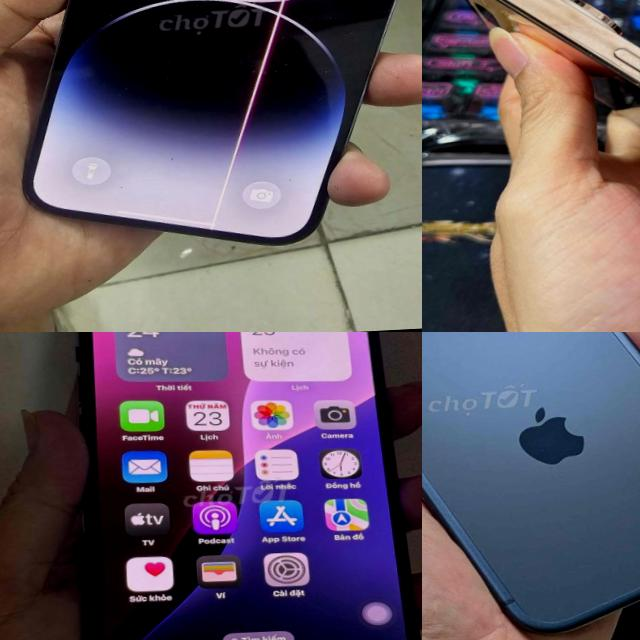gen_12_13: (54, 332, 422, 640)
gen_14: (0, 0, 422, 260), (432, 0, 640, 324)
gen_17: (422, 332, 640, 640)
